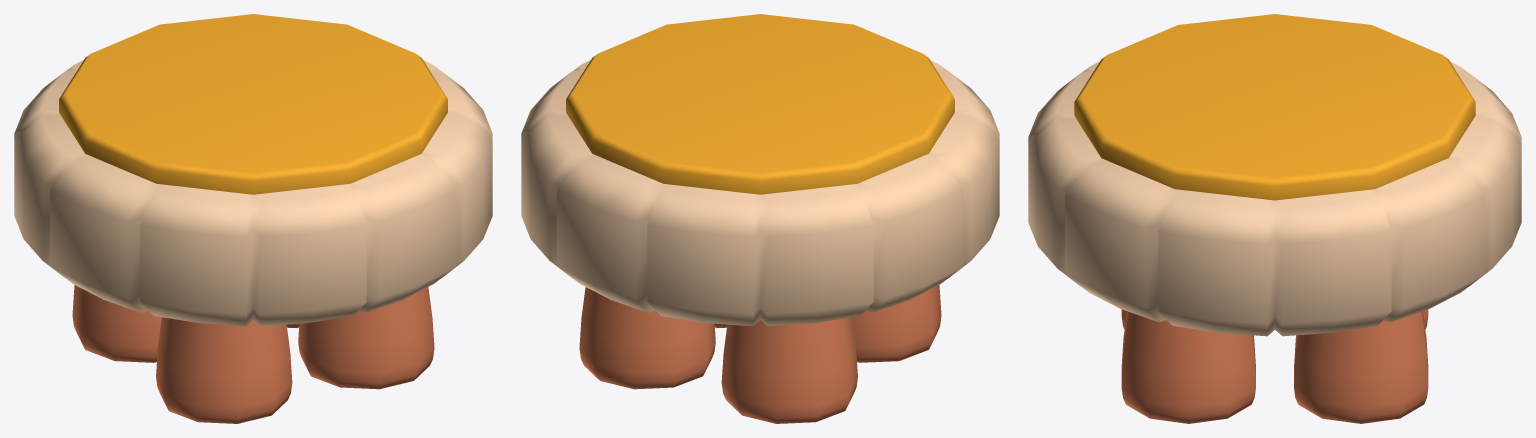
The model's file is Decor_Ghenho_02.fbx.
The picture shows the model from 3 angles, left to right: view 1: azimuth 30°, elevation 25°; view 2: azimuth 150°, elevation 25°; view 3: azimuth 270°, elevation 25°; orthographic projection. The views are drawn at different scales.
Parts seen in each view (by area): view 1: Decor_Ghenho_02; view 2: Decor_Ghenho_02; view 3: Decor_Ghenho_02.
Part boxes in pixels (<box>): Decor_Ghenho_02: <box>14,14,492,423</box>; Decor_Ghenho_02: <box>521,14,999,423</box>; Decor_Ghenho_02: <box>1028,14,1521,423</box>.
Bounding box in the file's own units: 62.92 × 37.64 × 62.92.
